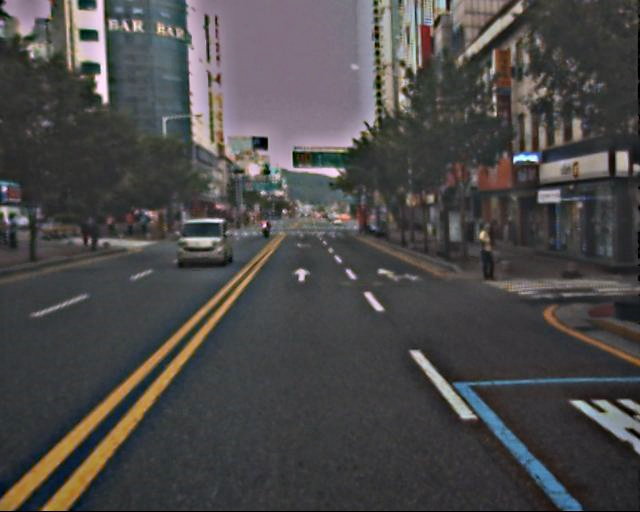person: (475, 221, 501, 286)
